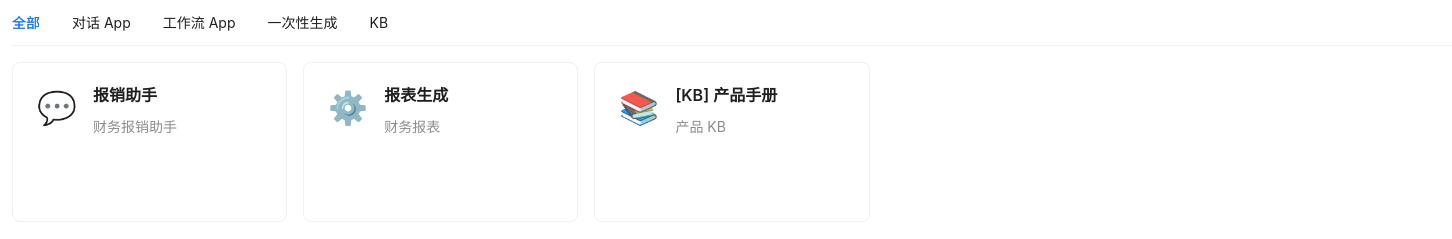
Test: <StaffHomePage> › 切到「工作流 App」tab 只显示 mode=workflow
Expected: the text "报表生成" is shown, [384,85,448,105]
Click the tab "工作流 App": x=199, y=23 [163,12,236,34]
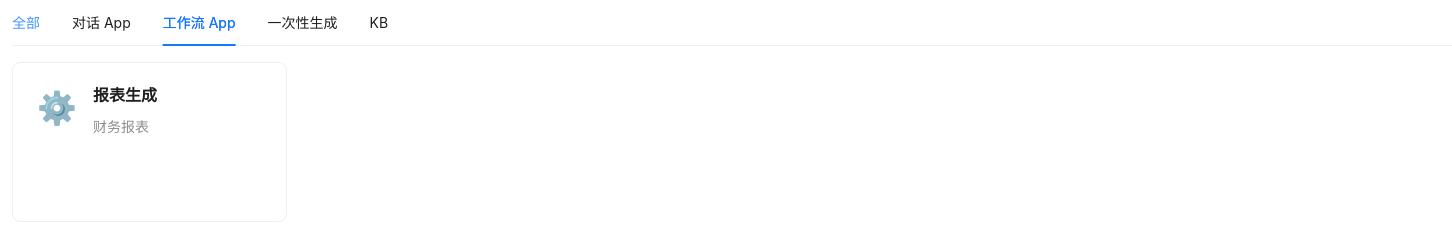
Expected: the text "报表生成" is shown, [93,85,157,105]
Now the link "报销助手" is gone
